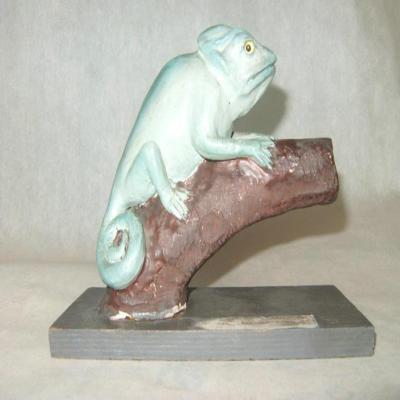natural_science_collection: (96, 25, 276, 292)
